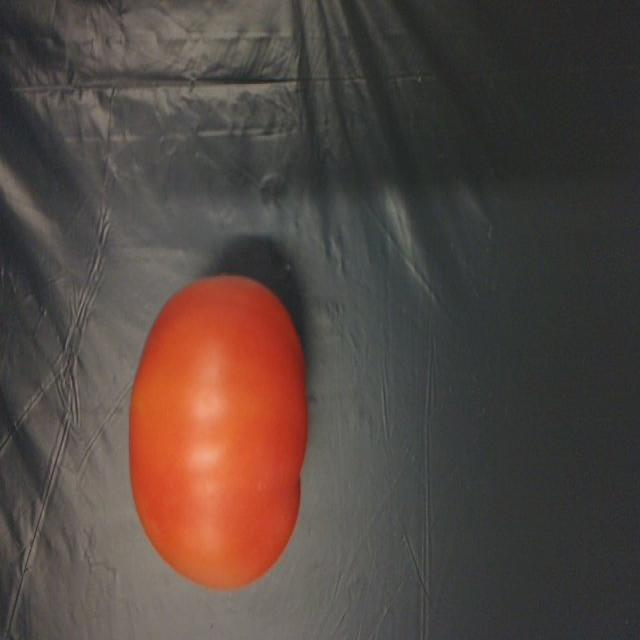kirmizi: (127, 257, 326, 598)
